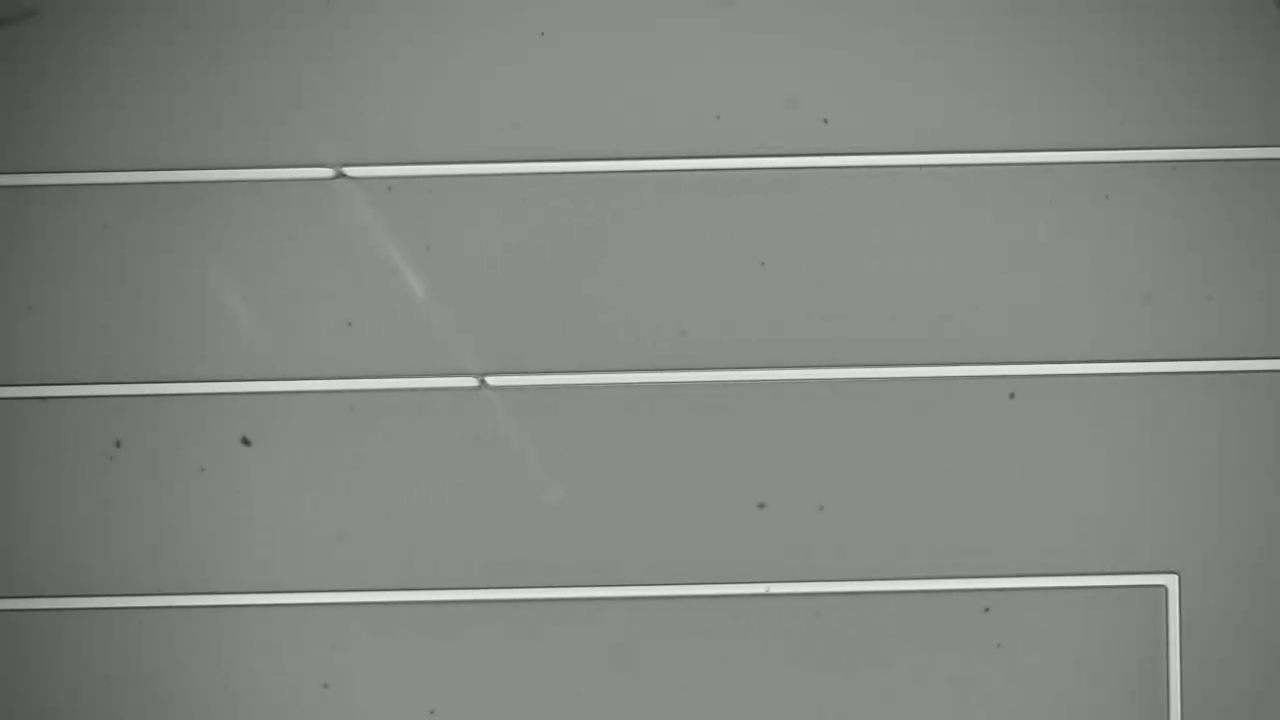gray_line: (318, 154, 359, 187), (465, 366, 501, 402)
